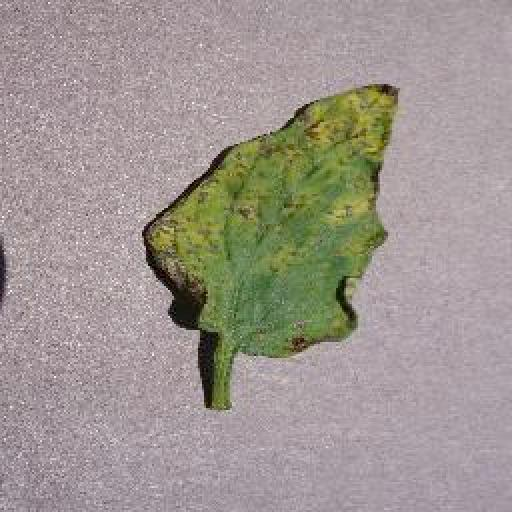disease_tomato: (144, 82, 402, 358)
